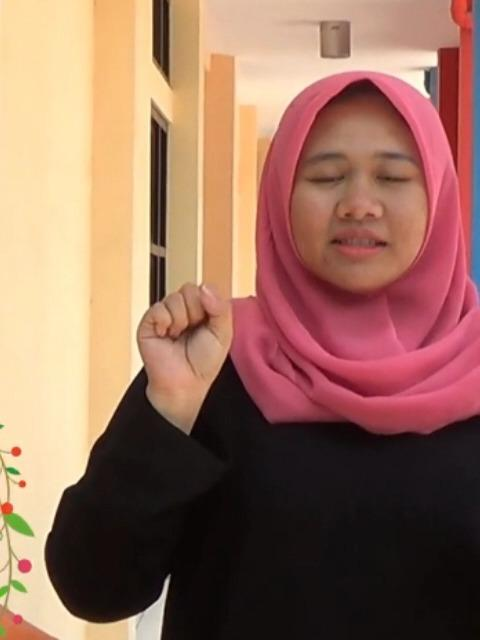S: (134, 278, 238, 388)
